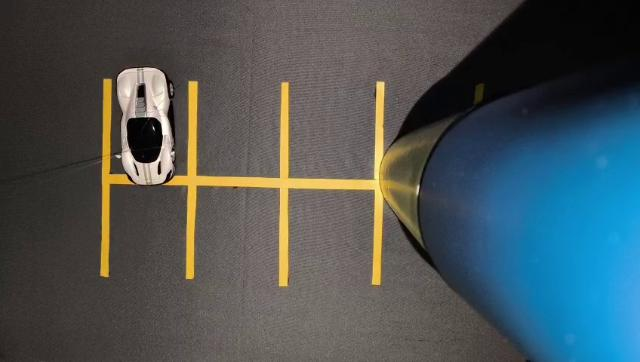toy_car: (87, 55, 198, 203)
